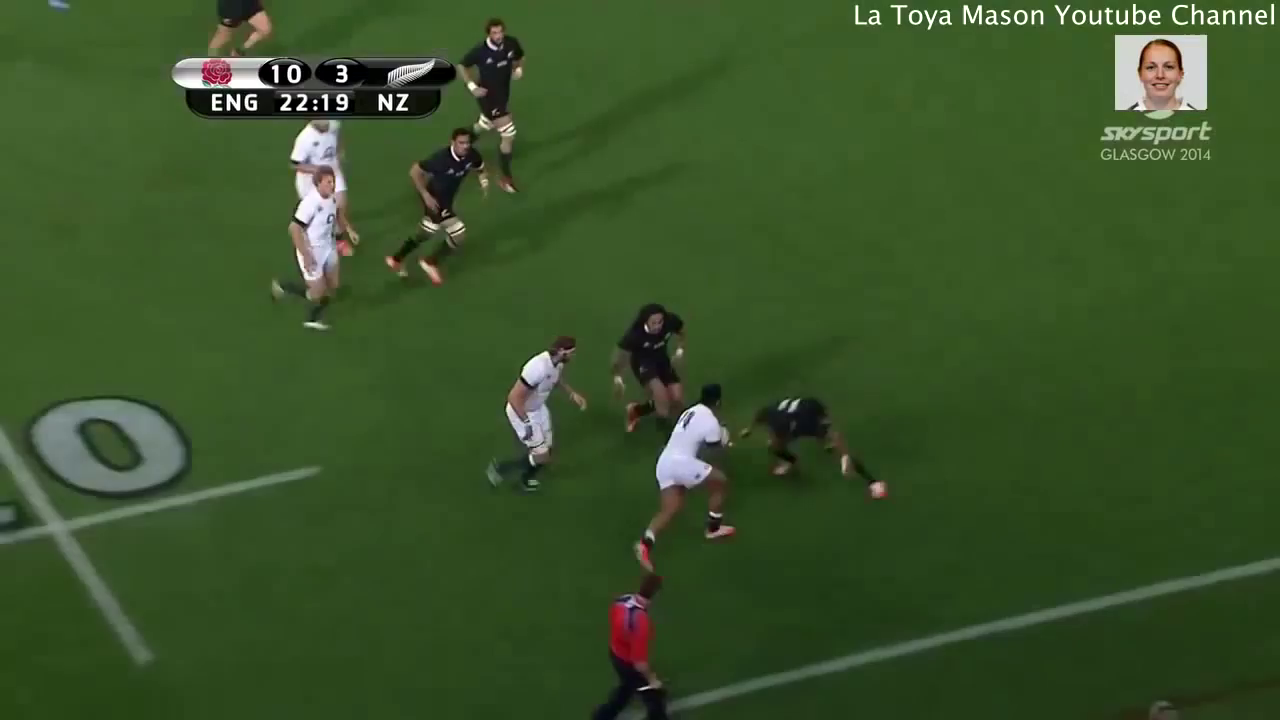10_metre: (1, 374, 331, 673)
player: (725, 374, 899, 504), (634, 367, 741, 574), (480, 322, 595, 510), (373, 115, 493, 295), (450, 16, 545, 200), (261, 164, 357, 333), (582, 569, 680, 720), (602, 296, 697, 435), (284, 120, 353, 216), (201, 1, 279, 56)
